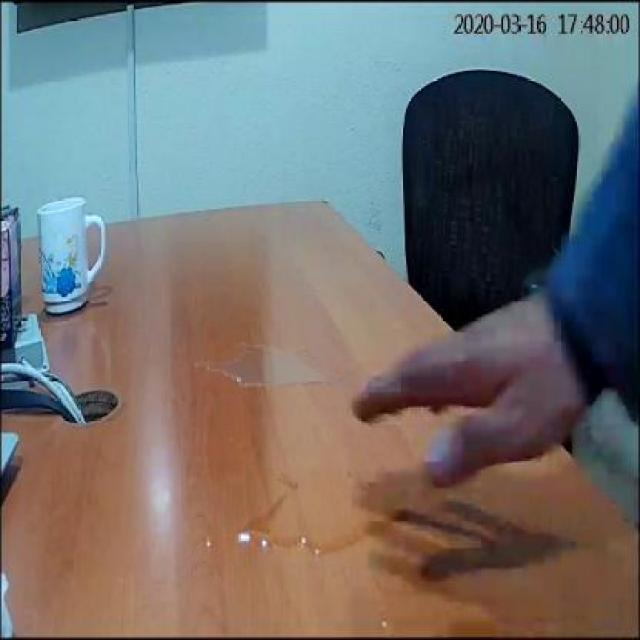spill: (239, 477, 407, 555), (202, 341, 336, 390)
